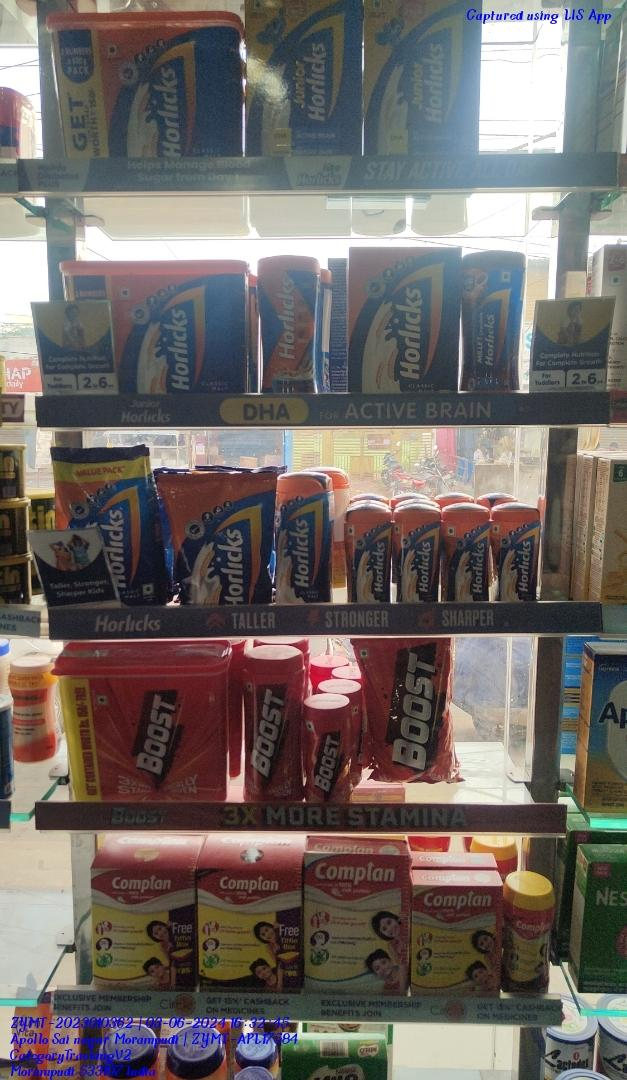COMPLAN_CHOCOLATE_500_GMS_JAR: (507, 887, 557, 998)
COMPLAN_CREAMY_CLASSIC_500_G_PACK: (307, 853, 405, 997)
COMPLAN_KESAR_BADAM_200_GMS_PACK: (409, 886, 499, 997)
HORLICK_CHOCOLATE_500_G_JAR: (466, 243, 525, 393)
HORLICK_CLASSIC_MALT_200_G_JAR: (343, 504, 392, 606), (443, 500, 490, 601), (397, 505, 442, 601), (494, 509, 537, 602)
HORLICK_CLASSIC_MALT_500_G_JAR: (258, 253, 319, 389), (279, 468, 333, 605)
HORLICK_CLASSIC_MALT_500_G_PACK: (348, 243, 465, 397)
HORLICK_CLASSIC_MALT_750_G_POUCH: (166, 471, 271, 604)
HORLICK_MALT_1_KG_CONTAINER: (47, 13, 240, 156), (118, 261, 247, 392)
